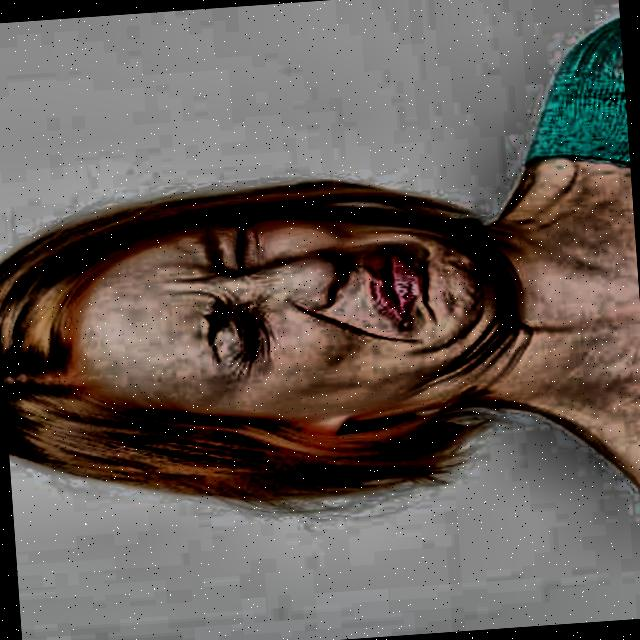disgust: (0, 131, 556, 549)
